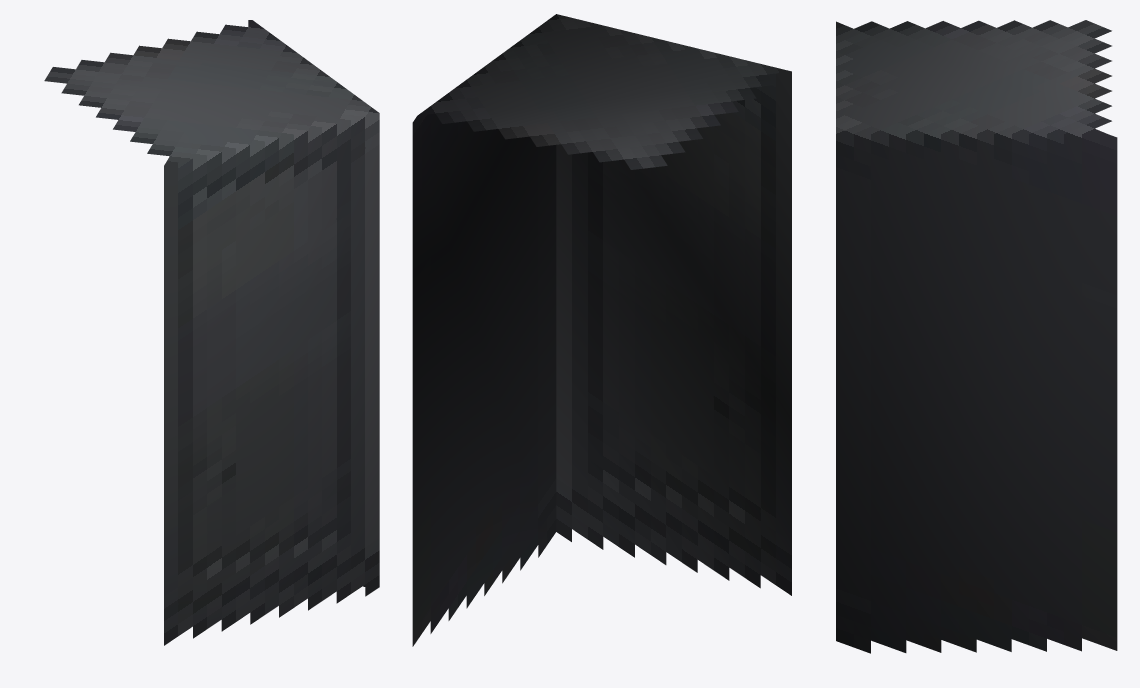
The model's file is InteractiveTrigger_mission91042.glb.
3 views of the same model, side by side, from view 1: azimuth 30°, elevation 25°; view 2: azimuth 150°, elevation 25°; view 3: azimuth 270°, elevation 25° (orthographic). The views are drawn at different scales.
Visible parts, largest first — view 1: 25DBG_BaseCamp01_Prop_Cabinet_2_1; view 2: 25DBG_BaseCamp01_Prop_Cabinet_2_1; view 3: 25DBG_BaseCamp01_Prop_Cabinet_2_1.
Part boxes in pixels (left/top/right/bottom): 25DBG_BaseCamp01_Prop_Cabinet_2_1: left=44, top=20, right=379, bottom=645; 25DBG_BaseCamp01_Prop_Cabinet_2_1: left=412, top=14, right=791, bottom=646; 25DBG_BaseCamp01_Prop_Cabinet_2_1: left=836, top=20, right=1117, bottom=653.
Size of the model in its own units: 0.4689 by 0.9825 by 0.4783.
1 material, 1 textured.
